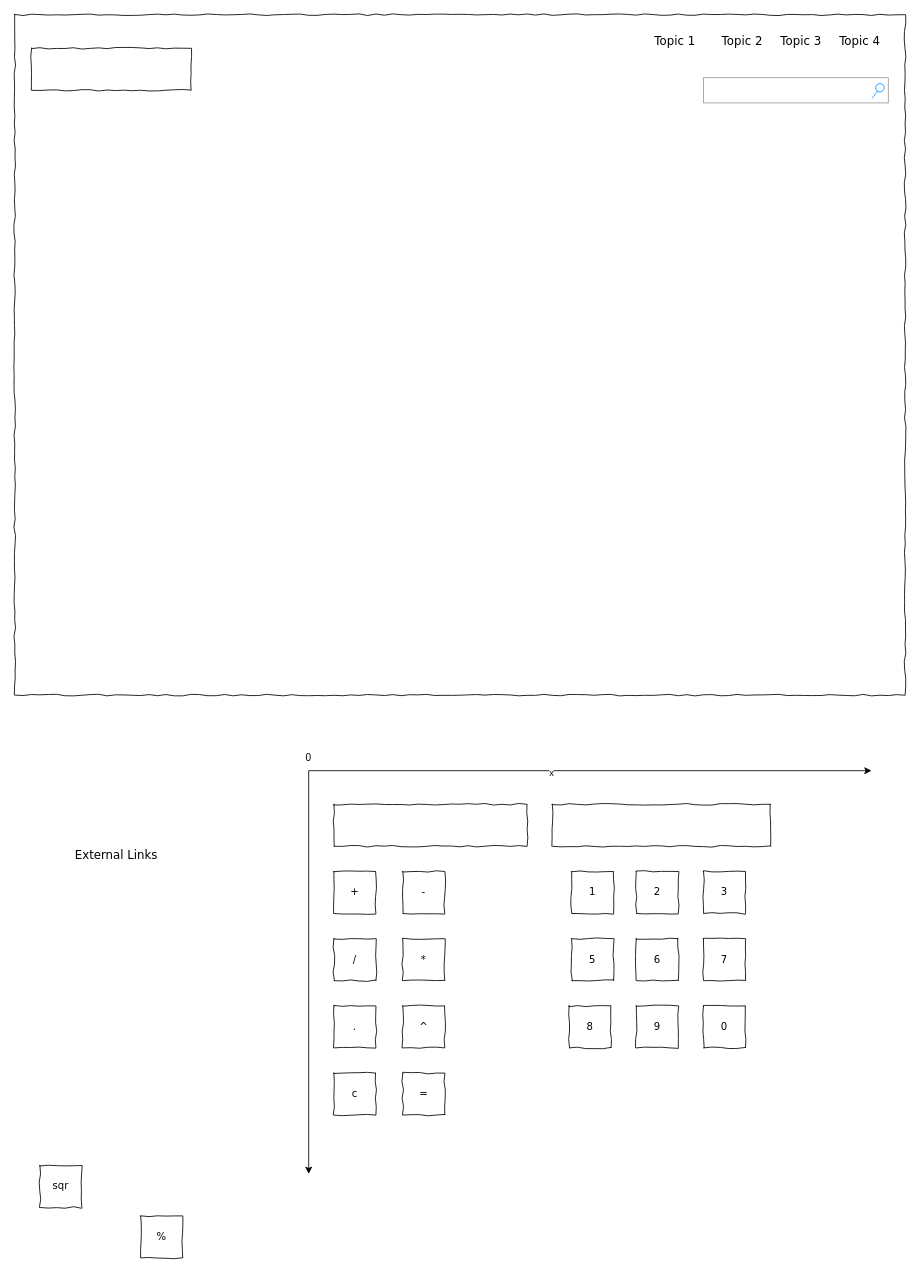
Image size: 920x1273. Some labels were removed from this diagram. Here are the shapes that lost their labels. From the top down, the centre of each, then its label:
At (111,68): "LOGO".
At (795,90): "Search".
